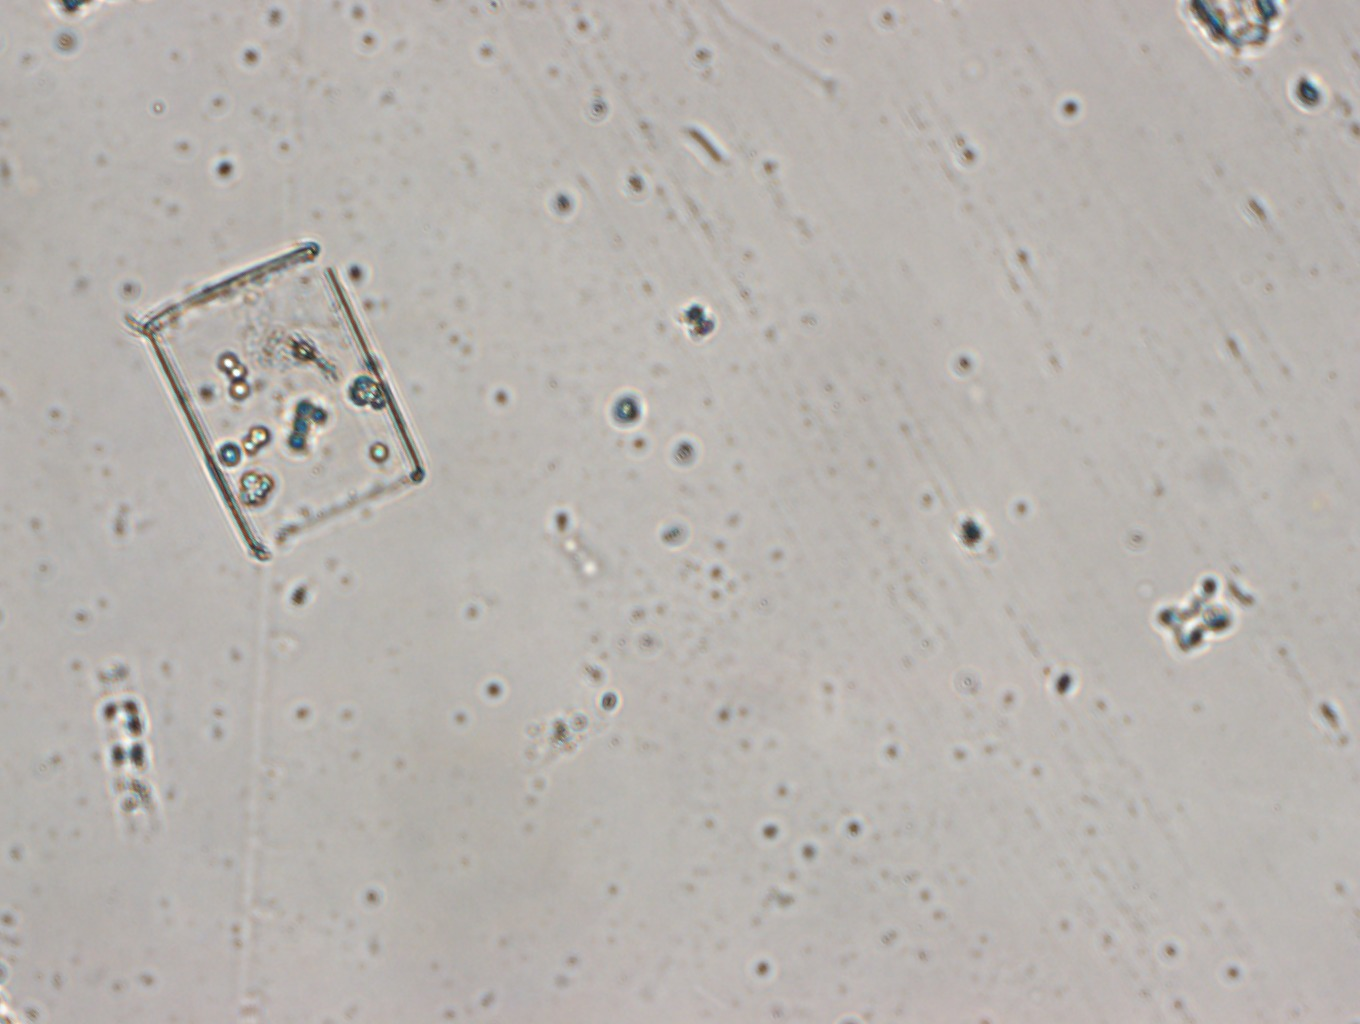guinardia flaccida: (134, 233, 428, 564)
